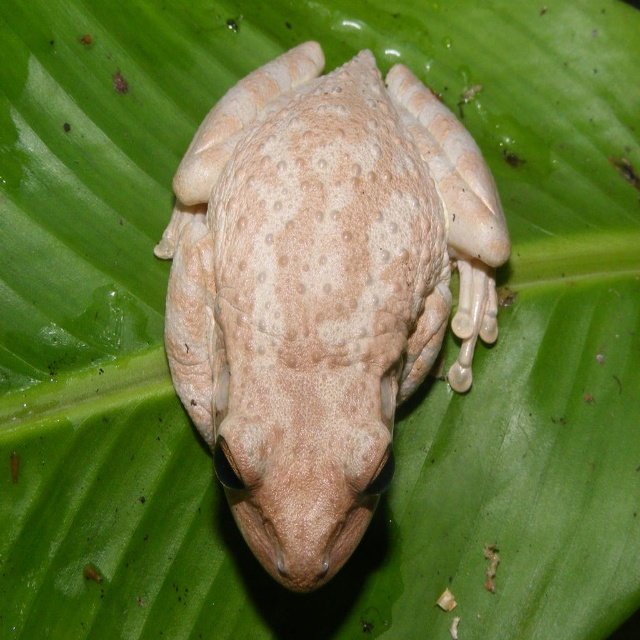Frog: (154, 41, 511, 593)
